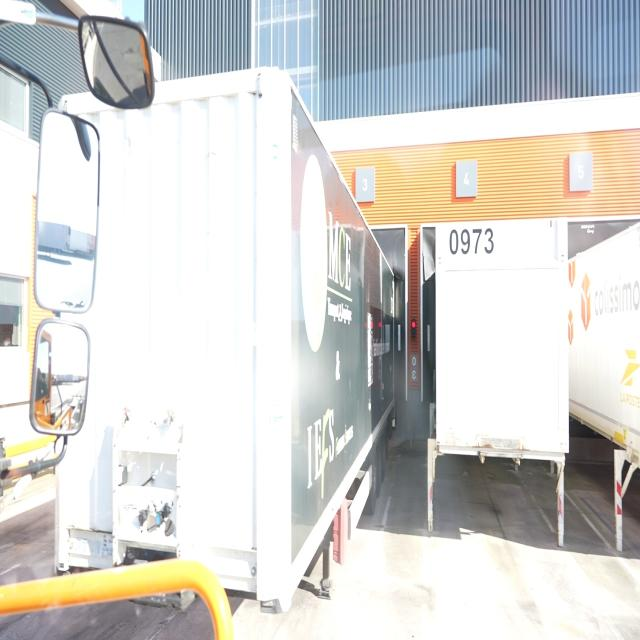Code: (446, 223, 498, 263)
